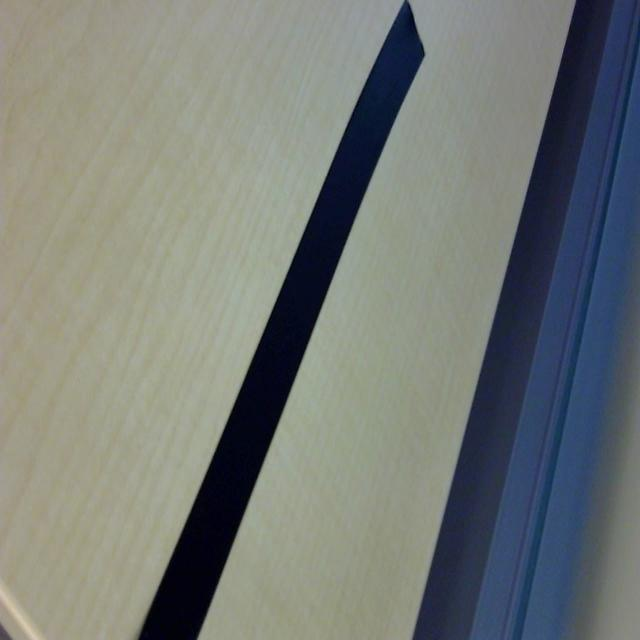tape: (90, 0, 444, 640)
